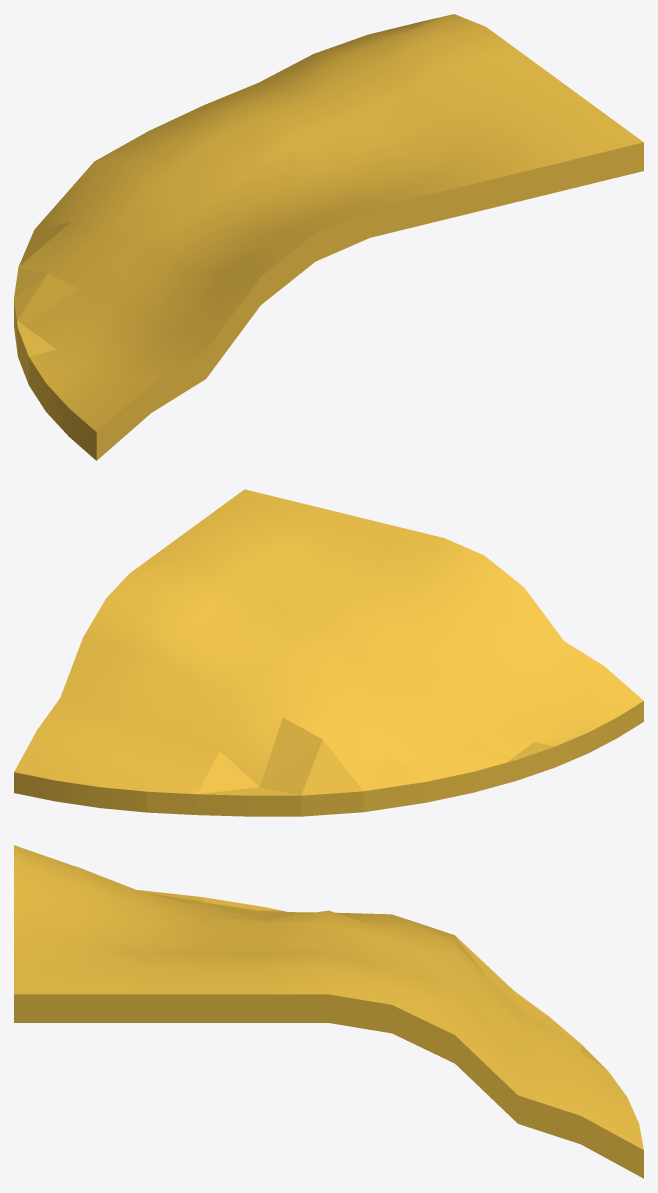
The model's file is Cheese.fbx.
3 renders of one model, top to bottom at view 1: azimuth 30°, elevation 25°; view 2: azimuth 150°, elevation 25°; view 3: azimuth 270°, elevation 25°, orthographic. The views are drawn at different scales.
Parts seen in each view (by area): view 1: Cheese; view 2: Cheese; view 3: Cheese.
Part boxes in pixels (x1,y1,x2,y2): Cheese: [14, 14, 643, 460]; Cheese: [14, 489, 643, 816]; Cheese: [14, 845, 643, 1178].
Size of the model in its own units: 394 by 127 by 394.
